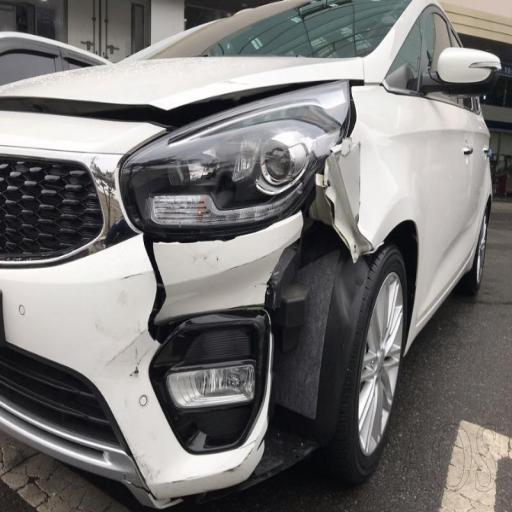broken: (113, 174, 366, 489), (292, 55, 383, 174)
scratch: (98, 310, 172, 446)
